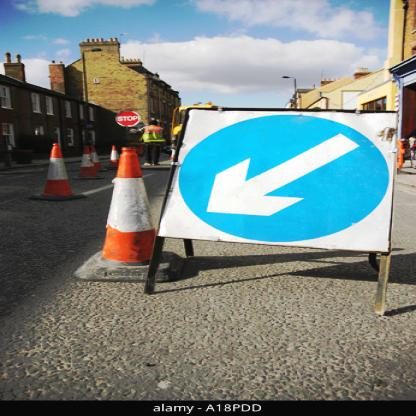Keep left: (181, 110, 389, 250)
